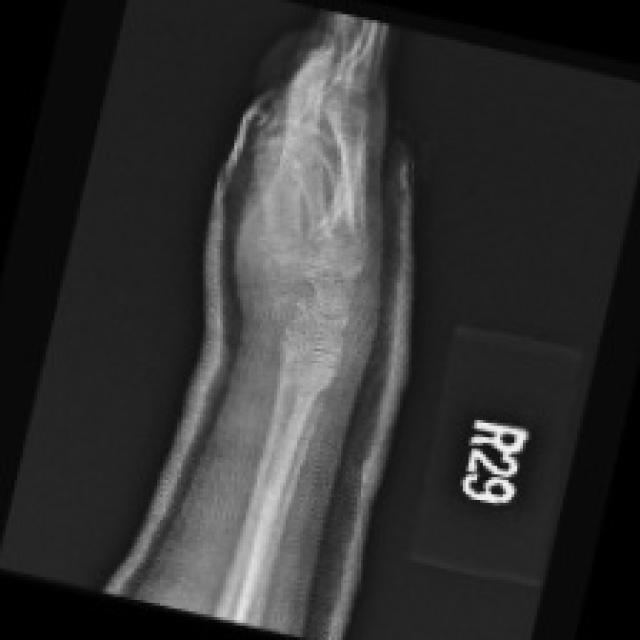fracture: (241, 178, 394, 407)
